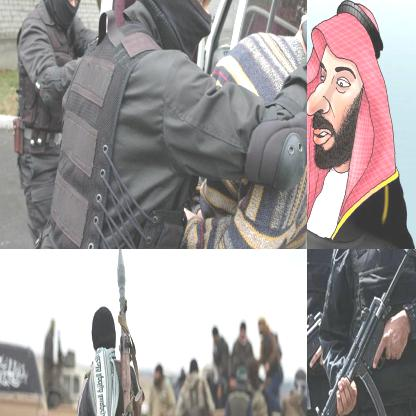rifle: (314, 249, 415, 415), (113, 249, 138, 415), (307, 309, 326, 412)
